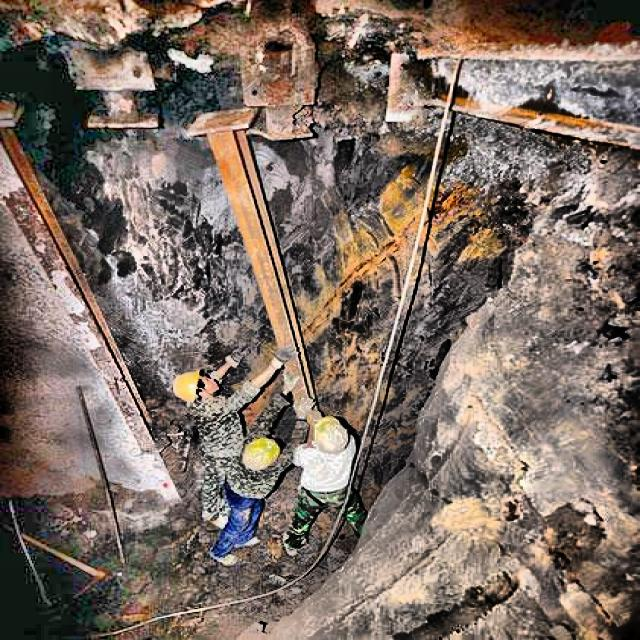helmet: (235, 435, 282, 480), (304, 414, 350, 453), (166, 371, 222, 403)
